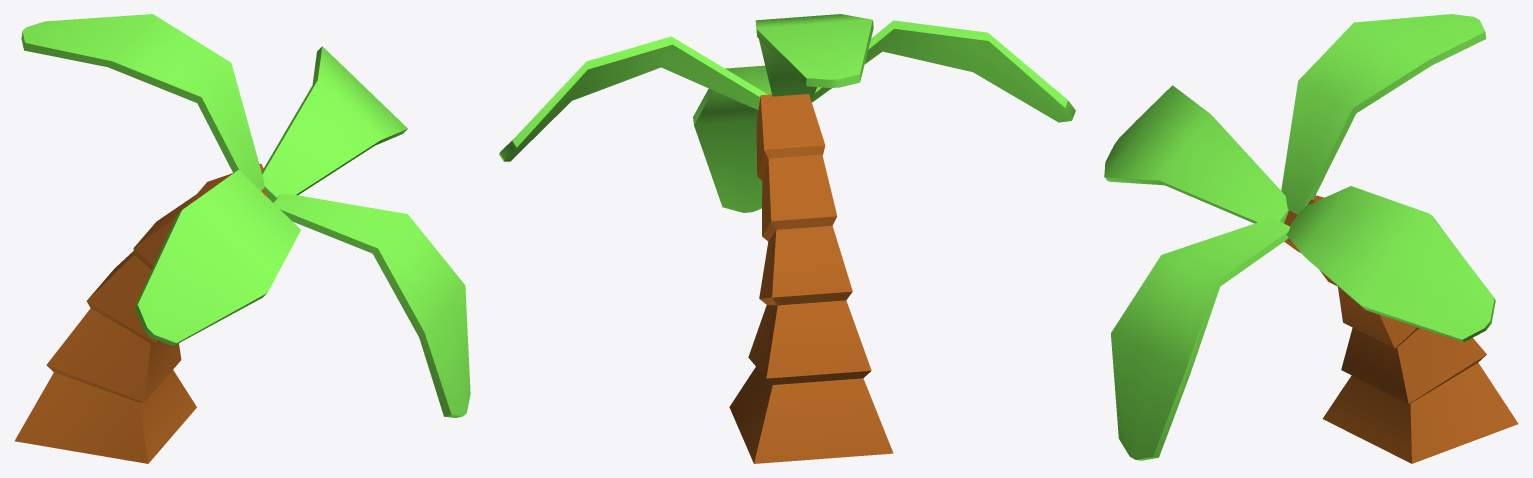
The model's file is palmier.FBX.
The picture shows the model from 3 angles, left to right: view 1: azimuth 30°, elevation 25°; view 2: azimuth 150°, elevation 25°; view 3: azimuth 270°, elevation 25°; orthographic projection. The views are drawn at different scales.
Parts seen in each view (by area): view 1: Box1098, Box1099, Box1131, Box1100, Box1130; view 2: Box1098, Box1100, Box1099, Box1130, Box1131; view 3: Box1098, Box1130, Box1131, Box1100, Box1099.
Part boxes in pixels (x1,y1,x2,y2): Box1098: [14, 163, 268, 463]; Box1099: [134, 170, 300, 346]; Box1131: [273, 194, 470, 417]; Box1100: [21, 14, 264, 190]; Box1130: [262, 46, 407, 202]; Box1098: [729, 94, 893, 463]; Box1100: [755, 14, 873, 101]; Box1099: [811, 20, 1075, 122]; Box1130: [499, 36, 767, 161]; Box1131: [693, 65, 771, 212]; Box1098: [1284, 195, 1518, 463]; Box1130: [1286, 186, 1495, 342]; Box1131: [1111, 218, 1289, 460]; Box1100: [1281, 14, 1486, 214]; Box1099: [1104, 85, 1288, 223].
Bounding box in the file's own units: 174 × 165 × 160.
